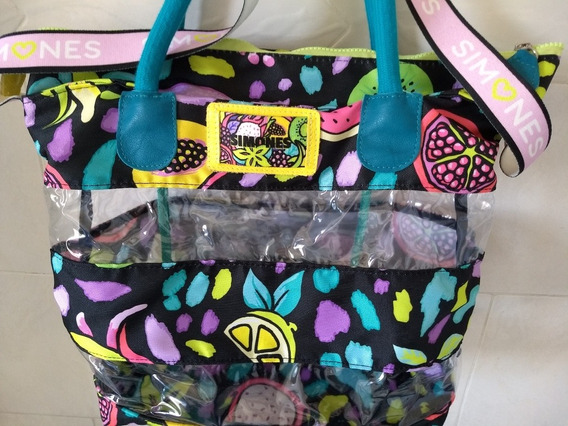cartera: (10, 26, 561, 426)
